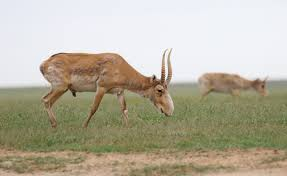saiga: (38, 47, 176, 152)
